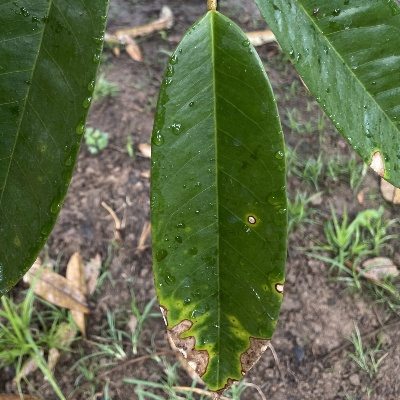Leaf_Phomopsis: (148, 5, 290, 395)
